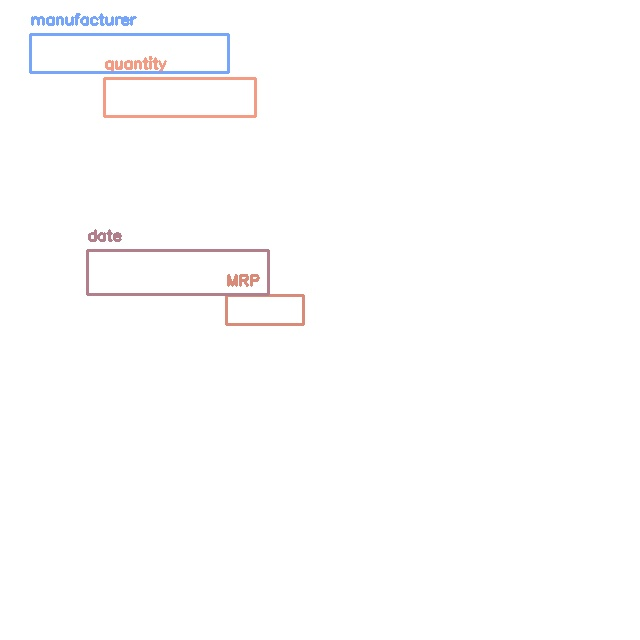MRP: (226, 295, 303, 324)
date: (87, 250, 268, 294)
manufacturer: (30, 34, 228, 72)
quantity: (104, 78, 255, 116)
